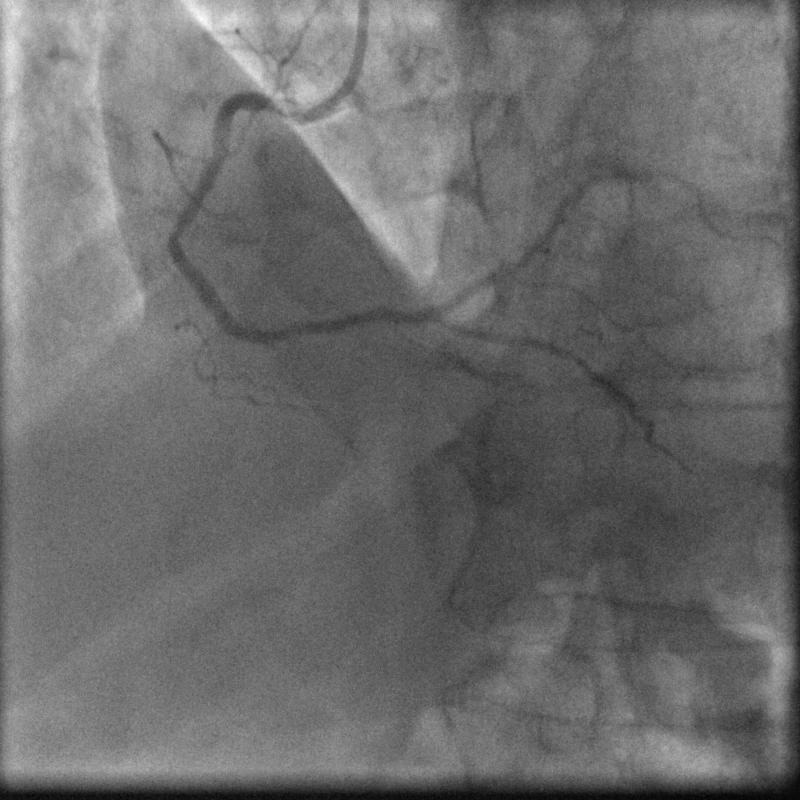Stenosis: (166, 219, 187, 238)
